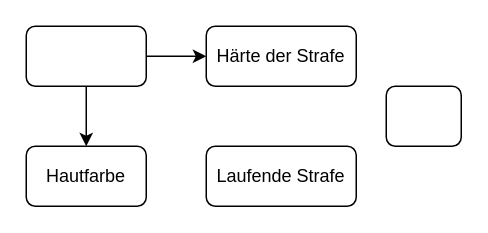
The diagram is 488 pixels wide and 233 high, and some of its shapes have lost their labels. Here are the shapes that lost their labels. From the top down, the box of each, then its label:
(25, 25, 146, 86): Geschlecht
(385, 85, 461, 146): Name
